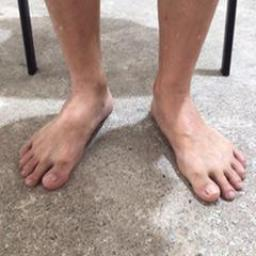Front View -Both Feet-: (12, 42, 252, 220)
